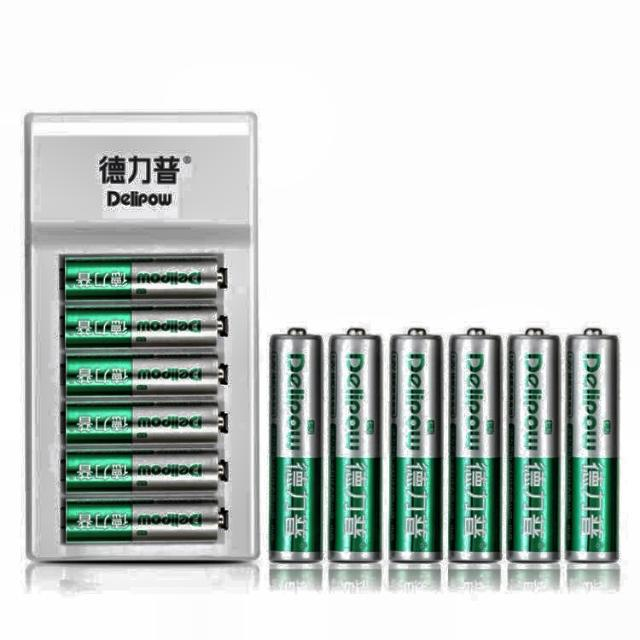Non-Valuable Waste - Batteries: (270, 329, 322, 562), (390, 329, 442, 562), (566, 328, 618, 561), (449, 329, 501, 561), (330, 329, 381, 561), (508, 329, 559, 561), (66, 501, 220, 542), (66, 259, 219, 300), (66, 308, 219, 348), (66, 356, 219, 396), (66, 452, 219, 491), (66, 405, 219, 443)
